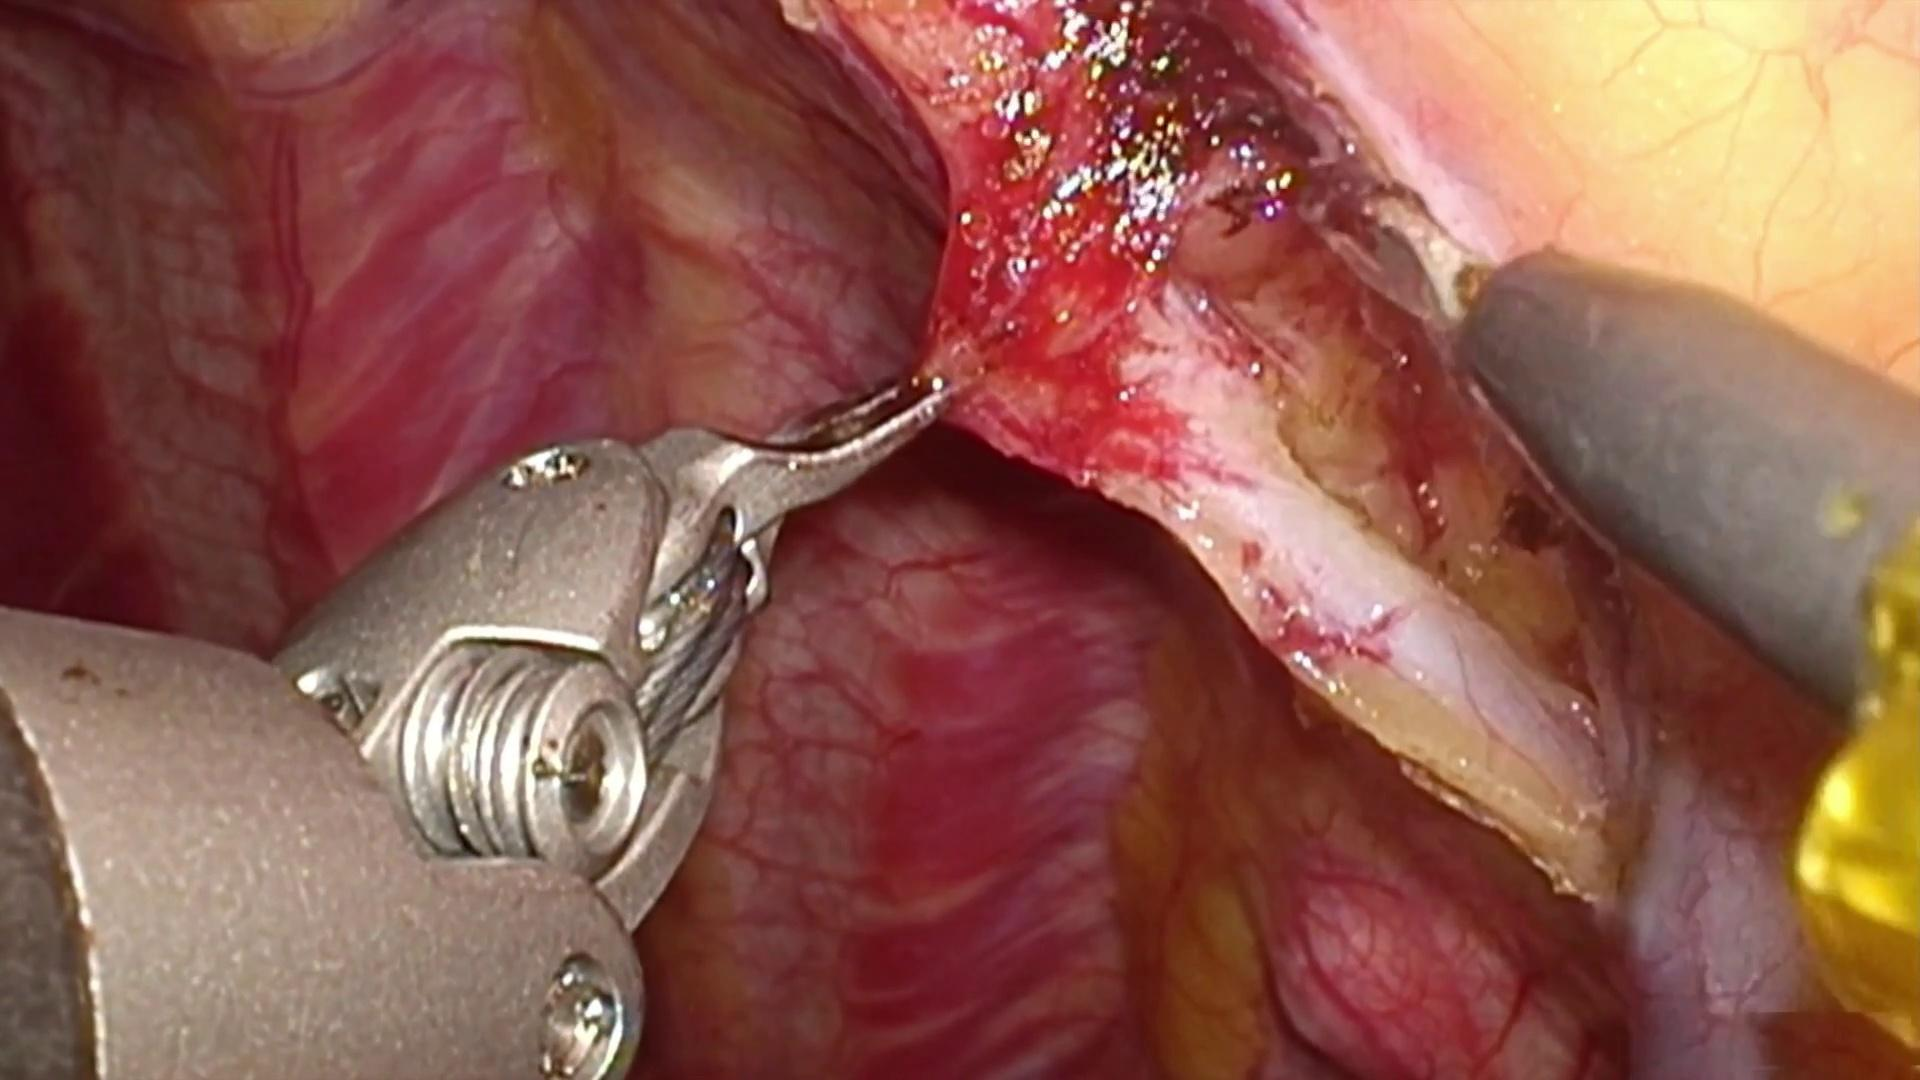Cautery_Spatula: (1282, 153, 1920, 719)
Debakey: (636, 336, 951, 642)
